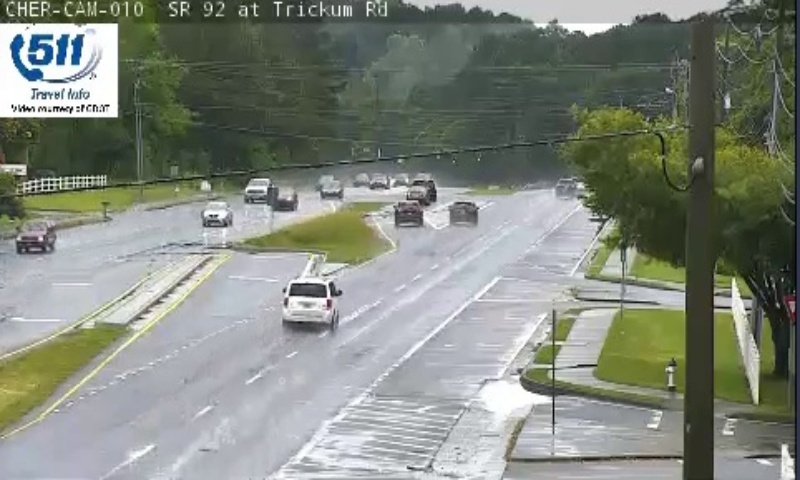car: (282, 279, 336, 323), (393, 202, 421, 227), (449, 202, 478, 225)
